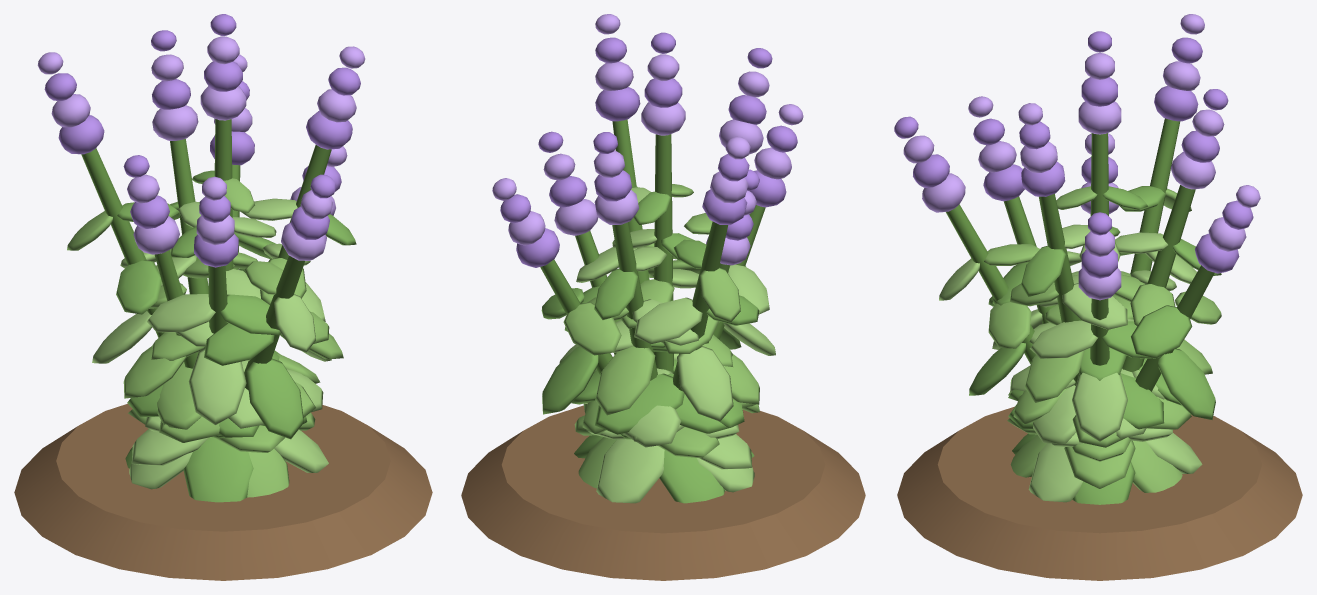
The model's file is catnip.glb.
The picture shows the model from 3 angles, left to right: view 1: azimuth 30°, elevation 25°; view 2: azimuth 150°, elevation 25°; view 3: azimuth 270°, elevation 25°; orthographic projection. The views are drawn at different scales.
Size of the model in its own units: 0.84 by 1.06 by 0.846.
